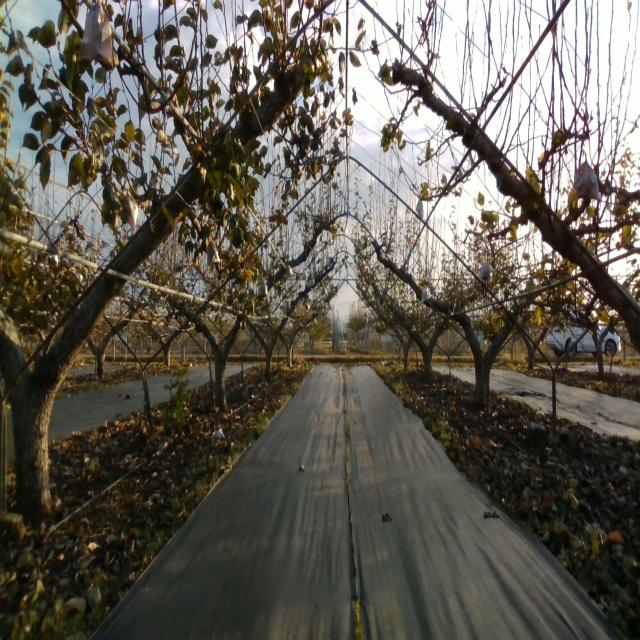pearbags: (78, 0, 114, 68), (571, 154, 602, 202), (125, 191, 139, 229), (478, 261, 492, 281)
